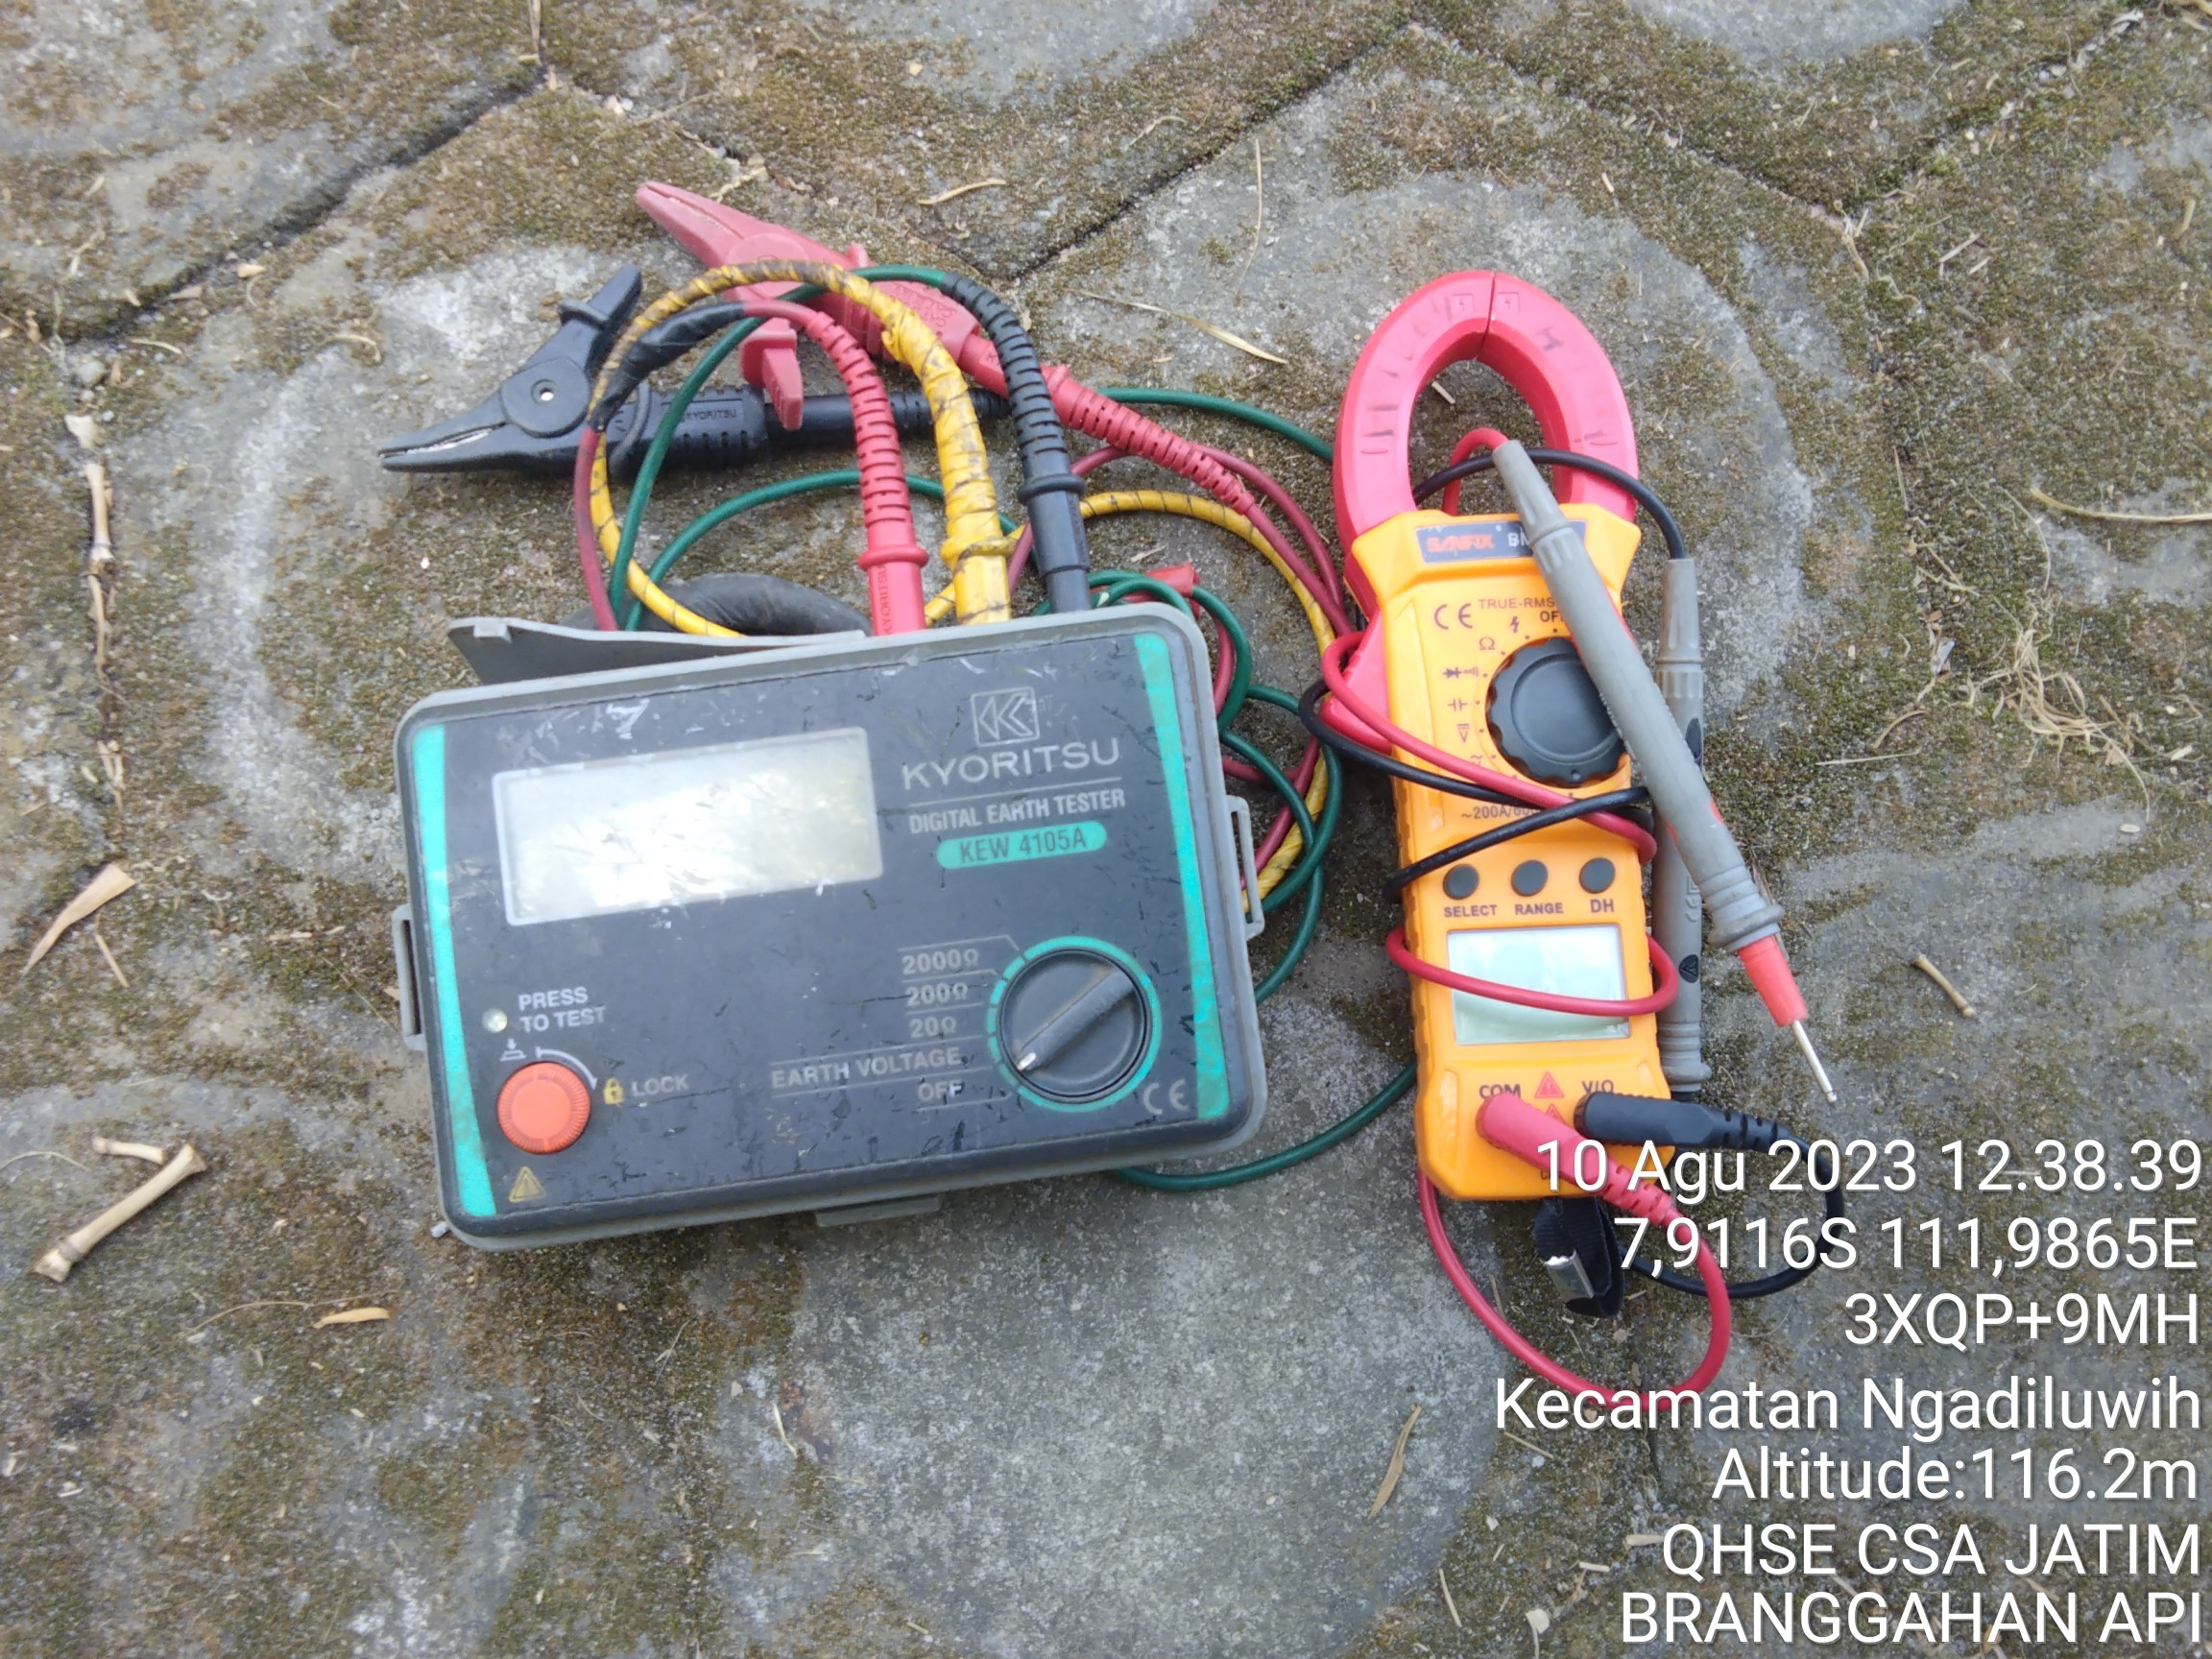EARTH_GROUNDING_TESTER: (387, 601, 1278, 1246)
